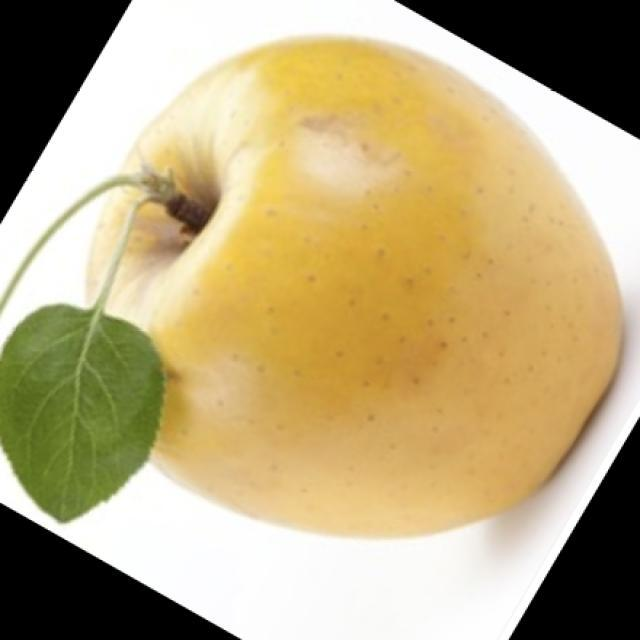Apple: (82, 33, 625, 540)
